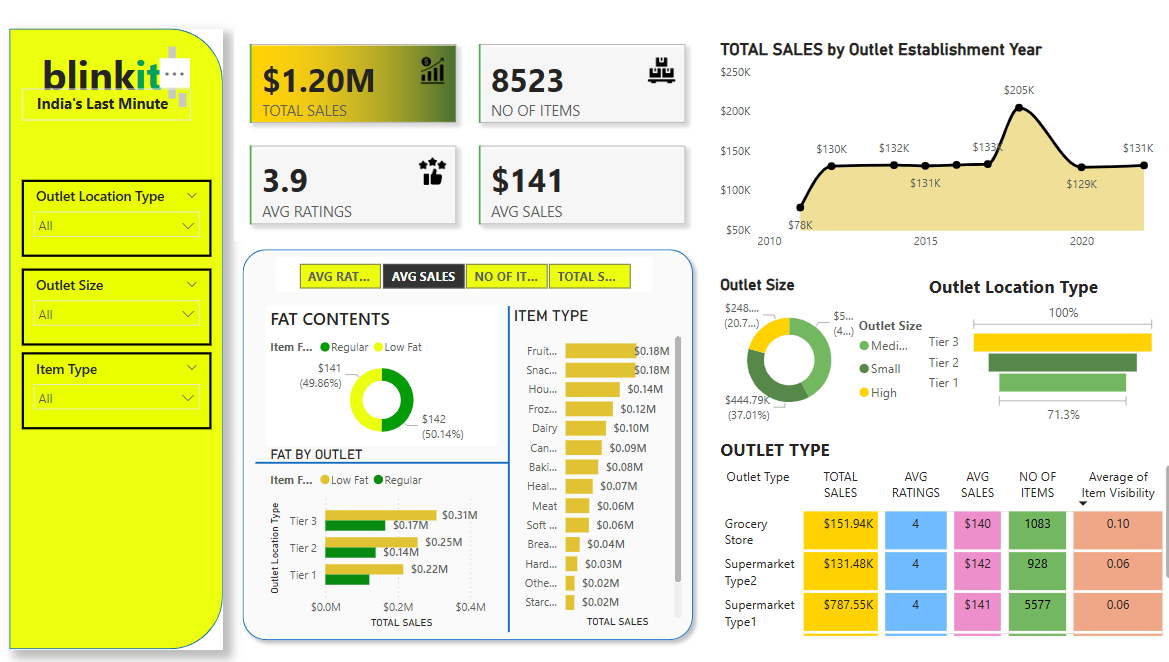

The page's visual inventory and layout, read from the dashboard file:
{"tool":"powerbi","page":{"name":"Page 1","canvas":[1280,720],"ordinal":0},"visuals":[{"type":"shape","box":[17.9,34.5,230.5,670],"z":0},{"type":"textbox","box":[40,49.7,161.5,66.3],"z":1000},{"type":"textbox","box":[30.4,99.4,182.2,34.5],"z":2000},{"type":"cardVisual","fields":{"Data":["BlinkIT Grocery Data.TOTAL SALES","BlinkIT Grocery Data.NO OF ITEMS","BlinkIT Grocery Data.AVG RATINGS","BlinkIT Grocery Data.AVG SALES"]},"box":[260.1,35.1,504.1,229.4],"z":3000},{"type":"shape","box":[260.1,264.4,504.1,439.8],"z":4000},{"type":"donutChart","title":"FAT CONTENTS","fields":{"Y":["BlinkIT Grocery Data.AVG SALES"],"Category":["BlinkIT Grocery Data.Item Fat Content"]},"box":[293.7,334.6,251.3,150.5],"z":5000},{"type":"slicer","fields":{"Values":["Matrices.Matrices"]},"box":[305.1,281.6,407.3,37.3],"z":6000},{"type":"clusteredBarChart","title":"FAT BY OUTLET","fields":{"Category":["BlinkIT Grocery Data.Outlet Location Type"],"Series":["BlinkIT Grocery Data.Item Fat Content"],"Y":["BlinkIT Grocery Data.TOTAL SALES"]},"box":[293.7,485.1,251.3,201.6],"z":7000},{"type":"shape","box":[283.4,496.8,273.2,14.6],"z":8000},{"type":"shape","box":[545,334.6,23.4,352.1],"z":9000},{"type":"barChart","title":"ITEM TYPE","fields":{"Y":["BlinkIT Grocery Data.TOTAL SALES"],"Category":["BlinkIT Grocery Data.Item Type"]},"box":[556.7,334.6,191.4,352.1],"z":10000},{"type":"lineChart","fields":{"Y":["BlinkIT Grocery Data.TOTAL SALES"],"Category":["BlinkIT Grocery Data.Outlet Establishment Year"]},"box":[780.2,46.8,480.7,235.2],"z":10001},{"type":"donutChart","title":"Outlet Size","fields":{"Y":["BlinkIT Grocery Data.TOTAL SALES"],"Category":["BlinkIT Grocery Data.Outlet Size"]},"box":[780.2,301,239.6,165.1],"z":10002},{"type":"funnel","title":"Outlet Location Type","fields":{"Y":["Sum(BlinkIT Grocery Data.Sales)"],"Category":["BlinkIT Grocery Data.Outlet Location Type"]},"box":[1005.2,301,255.7,165.1],"z":10003},{"type":"pivotTable","title":"OUTLET TYPE","fields":{"Rows":["BlinkIT Grocery Data.Outlet Type"],"Values":["BlinkIT Grocery Data.TOTAL SALES","BlinkIT Grocery Data.AVG RATINGS","BlinkIT Grocery Data.AVG SALES","BlinkIT Grocery Data.NO OF ITEMS","Avg(BlinkIT Grocery Data.Item Visibility)"]},"box":[780.2,476.3,499.7,219.2],"z":10005},{"type":"slicer","fields":{"Values":["BlinkIT Grocery Data.Outlet Location Type"]},"box":[30.7,198.7,204.5,83.3],"z":10006},{"type":"slicer","fields":{"Values":["BlinkIT Grocery Data.Outlet Size"]},"box":[30.7,293.7,204.5,83.3],"z":10007},{"type":"slicer","fields":{"Values":["BlinkIT Grocery Data.Item Type"]},"box":[30.7,384.3,204.5,83.3],"z":10008}]}

Visuals, with their boxes in screenshot pixels (x1, y1, x2, y2), scaled from the page's 1280x720 canvas onto the 1169x662 screenshot:
shape: BBox(16, 32, 227, 648)
textbox: BBox(37, 46, 184, 107)
textbox: BBox(28, 91, 194, 123)
cardVisual - BlinkIT Grocery Data.TOTAL SALES x BlinkIT Grocery Data.NO OF ITEMS: BBox(238, 32, 698, 243)
shape: BBox(238, 243, 698, 647)
"FAT CONTENTS" donutChart: BBox(268, 308, 498, 446)
slicer - Matrices.Matrices: BBox(279, 259, 651, 293)
"FAT BY OUTLET" clusteredBarChart: BBox(268, 446, 498, 631)
shape: BBox(259, 457, 508, 470)
shape: BBox(498, 308, 519, 631)
"ITEM TYPE" barChart: BBox(508, 308, 683, 631)
lineChart - BlinkIT Grocery Data.TOTAL SALES x BlinkIT Grocery Data.Outlet Establishment Year: BBox(713, 43, 1152, 259)
"Outlet Size" donutChart: BBox(713, 277, 931, 429)
"Outlet Location Type" funnel: BBox(918, 277, 1152, 429)
"OUTLET TYPE" pivotTable: BBox(713, 438, 1168, 639)
slicer - BlinkIT Grocery Data.Outlet Location Type: BBox(28, 183, 215, 259)
slicer - BlinkIT Grocery Data.Outlet Size: BBox(28, 270, 215, 347)
slicer - BlinkIT Grocery Data.Item Type: BBox(28, 353, 215, 430)
